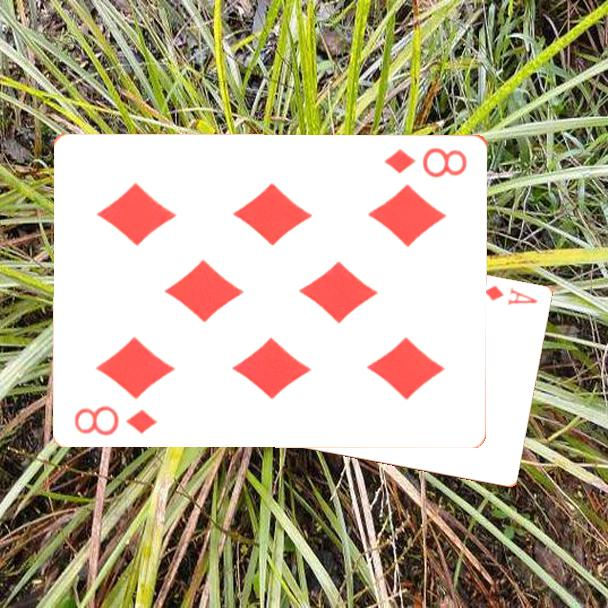d01: (481, 282, 540, 308)
d08: (382, 144, 471, 181), (71, 402, 161, 438)
